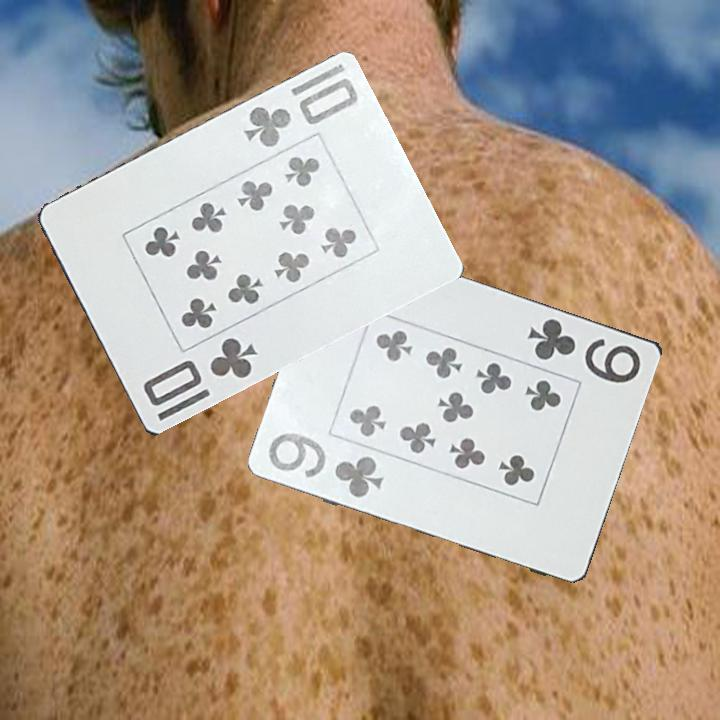9c: (265, 428, 388, 501), (523, 314, 644, 386)
Tc: (239, 61, 362, 151), (139, 332, 261, 410)
